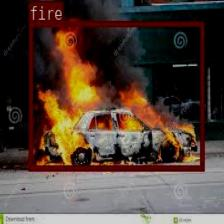fire: (28, 20, 203, 170)
